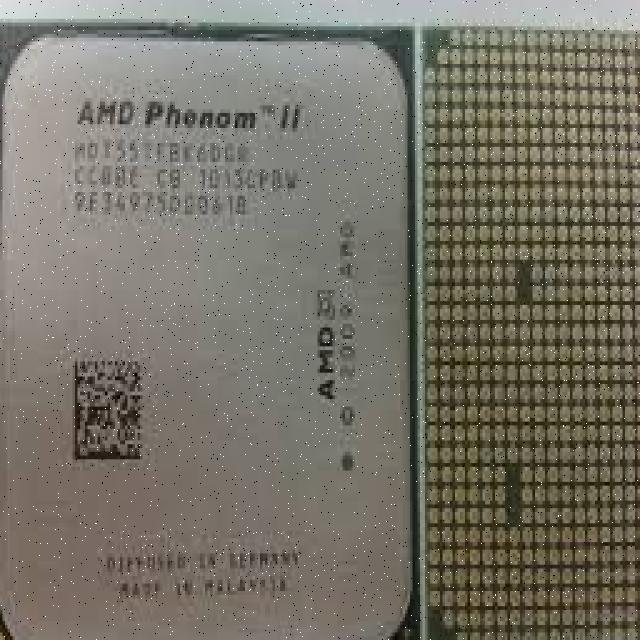datamatrix: (62, 346, 150, 467)
